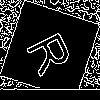R: (25, 25, 82, 78)
